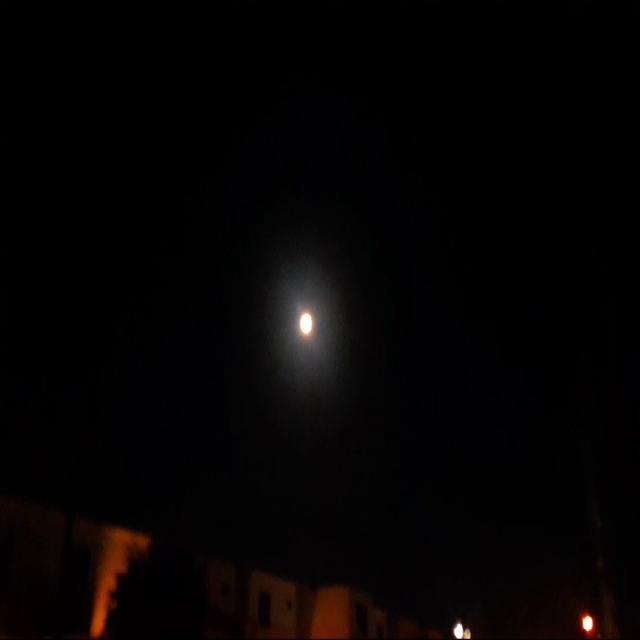moon: (300, 302, 317, 336)
